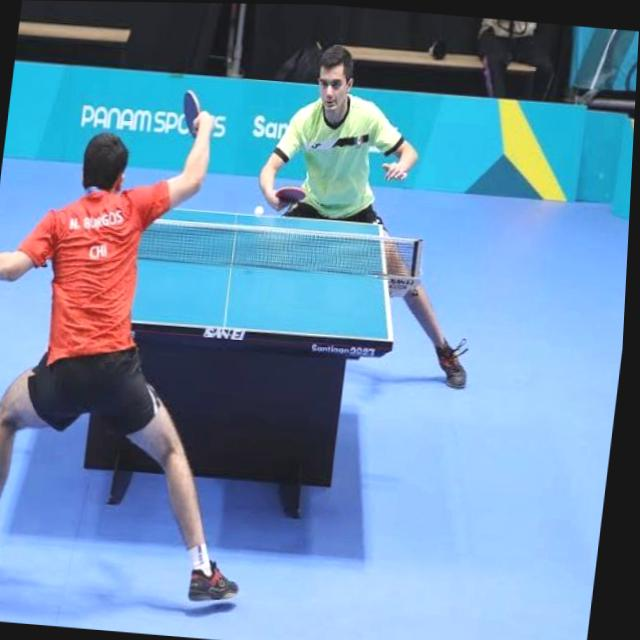TT Net: (81, 207, 423, 286)
TT Racket: (175, 83, 207, 145), (271, 185, 309, 208)
TT Table: (95, 200, 390, 344)
